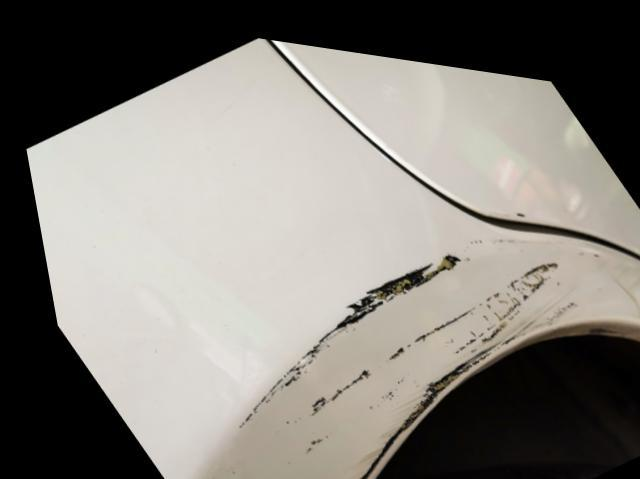scratch: (174, 219, 581, 479)
